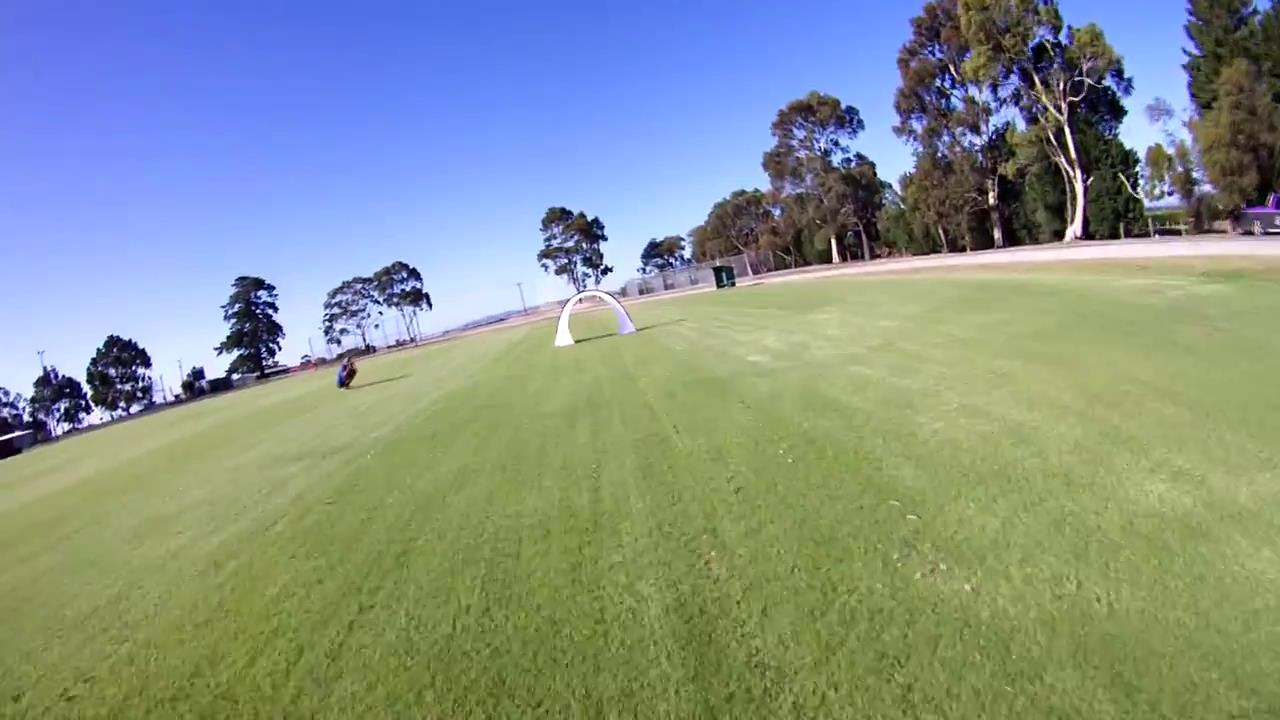gate: (551, 288, 639, 348)
